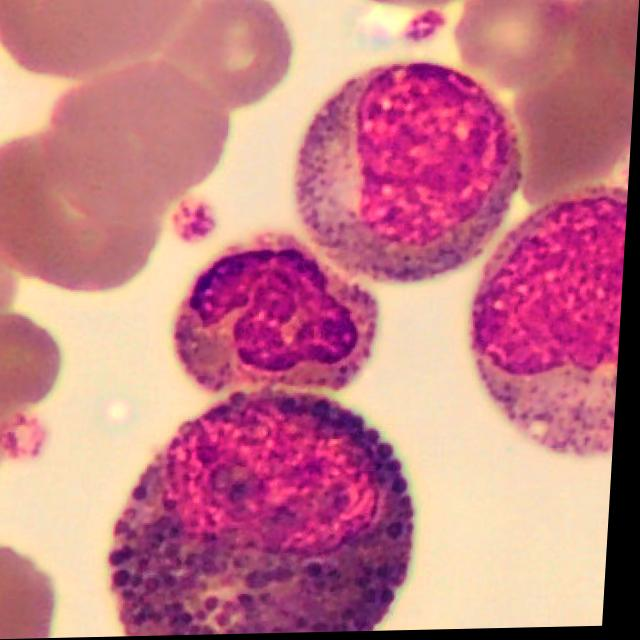Mielocito: (297, 62, 523, 283), (474, 186, 631, 459)
Neutrofilo segmentado: (179, 243, 379, 394)
Promielocito: (116, 390, 422, 637)
